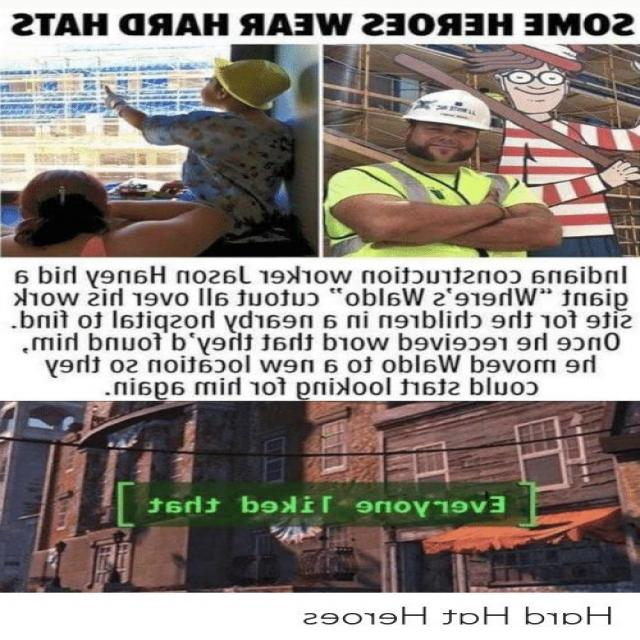Reflective-Jacket: (324, 161, 531, 258)
Safety-Helmet: (398, 88, 501, 132)
